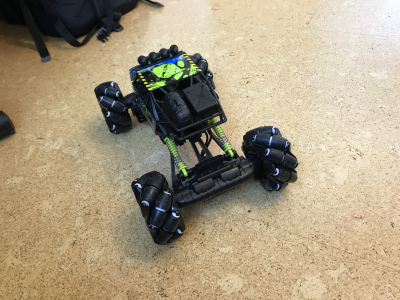remote control car: (91, 42, 300, 247)
